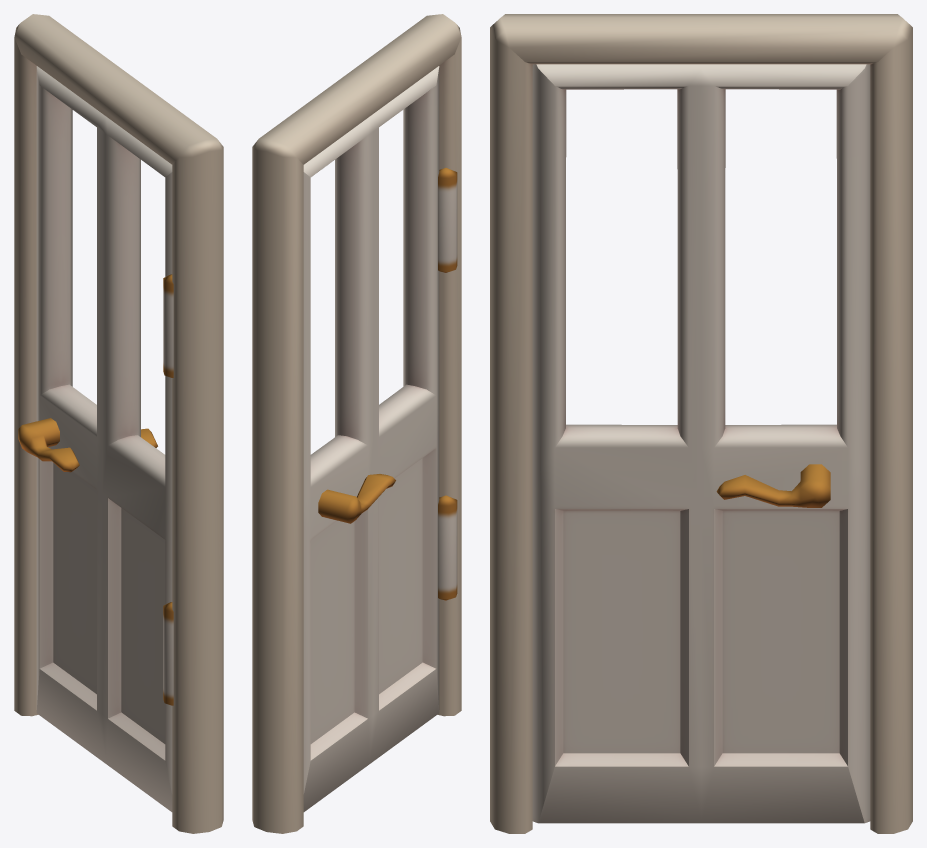
File: door_01.fbx
3 renders of one model, left to right at view 1: azimuth 30°, elevation 25°; view 2: azimuth 150°, elevation 25°; view 3: azimuth 270°, elevation 25°, orthographic. The views are drawn at different scales.
Parts seen in each view (by area): view 1: door_01_ready; view 2: door_01_ready; view 3: door_01_ready.
Part boxes in pixels (x1,y1,x2,y2): door_01_ready: (14, 14, 223, 833); door_01_ready: (252, 14, 461, 833); door_01_ready: (490, 14, 912, 833).
Size of the model in its own units: 32.83 by 210 by 100.
